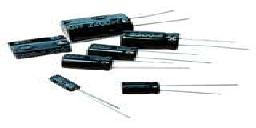Electrolytic-Capacitor: (119, 28, 248, 55), (117, 76, 244, 103), (92, 42, 215, 69), (61, 13, 149, 39), (2, 33, 81, 60), (63, 53, 124, 75), (50, 70, 87, 100)
